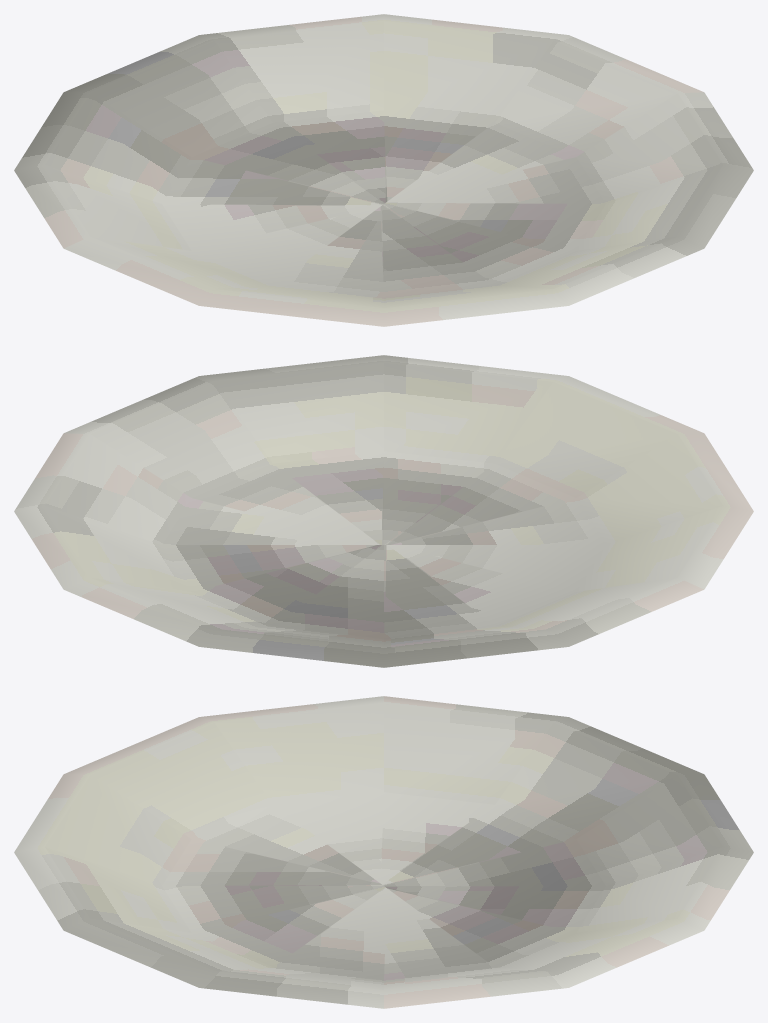
The model's file is plate.glb.
The picture shows the model from 3 angles, top to bottom: view 1: azimuth 30°, elevation 25°; view 2: azimuth 150°, elevation 25°; view 3: azimuth 270°, elevation 25°; orthographic projection.
Visible parts, largest first — view 1: plate; view 2: plate; view 3: plate.
Boxes of the visible parts, x1,y1,x2,y2 form: plate: [14, 14, 753, 326]; plate: [14, 355, 753, 667]; plate: [14, 696, 753, 1008].
Bounding box in the file's own units: 0.24 × 0.02 × 0.24.
Materials: 1 (1 with a texture image).
